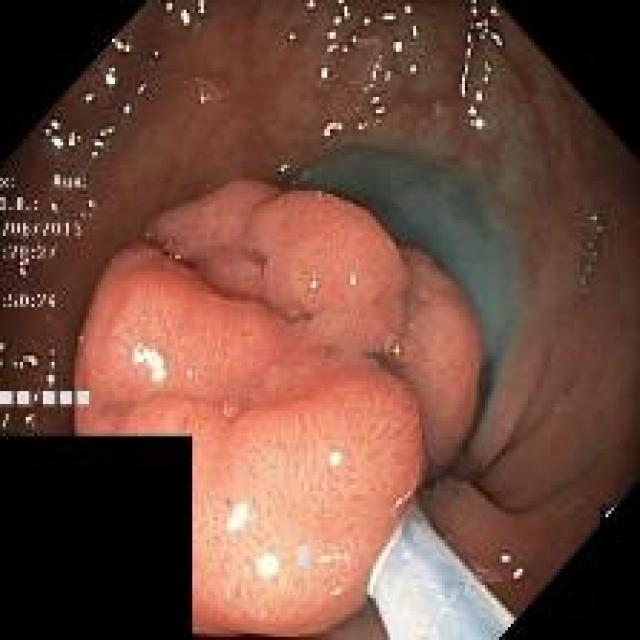Polyps: (75, 181, 482, 637)
